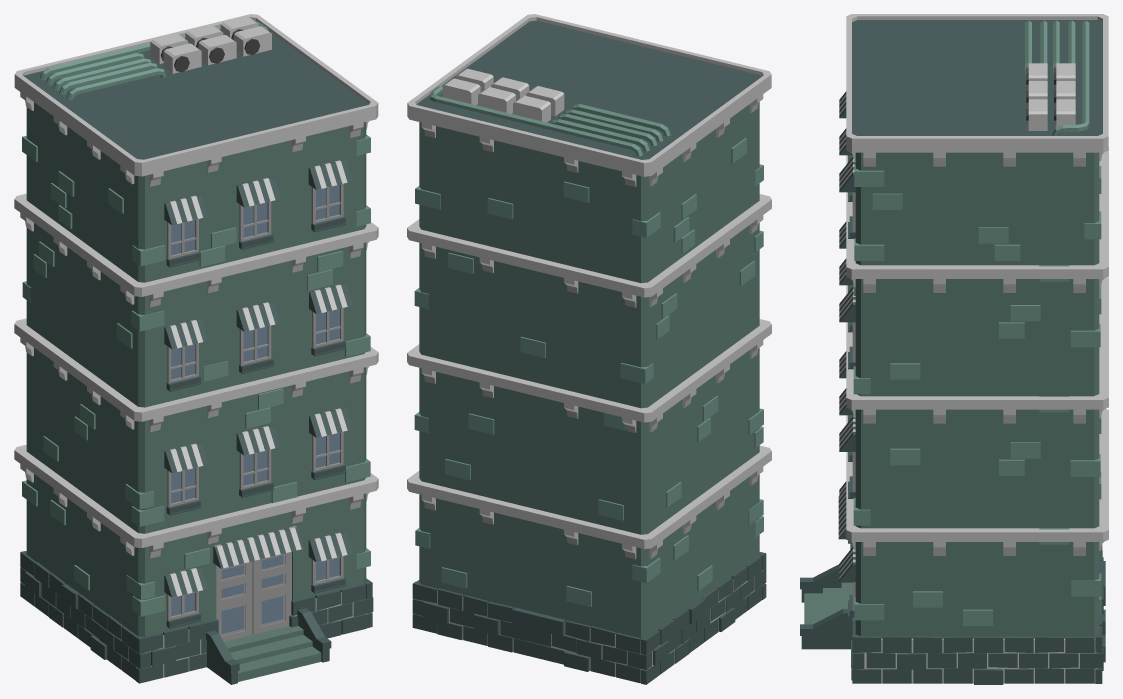
File: 4story_mat.glb
The picture shows the model from 3 angles, left to right: view 1: azimuth 30°, elevation 25°; view 2: azimuth 150°, elevation 25°; view 3: azimuth 270°, elevation 25°; orthographic projection. The views are drawn at different scales.
Parts seen in each view (by area): view 1: 4Story_Mat; view 2: 4Story_Mat; view 3: 4Story_Mat.
Boxes of the visible parts, x1,y1,x2,y2 form: 4Story_Mat: (14, 14, 378, 684); 4Story_Mat: (407, 14, 771, 684); 4Story_Mat: (800, 14, 1108, 684).
Size of the model in its own units: 2.42 by 5.09 by 2.53.
